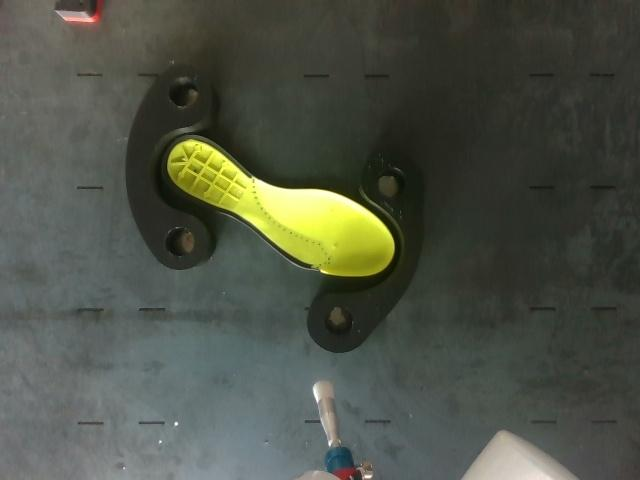shoes: (163, 138, 394, 276)
